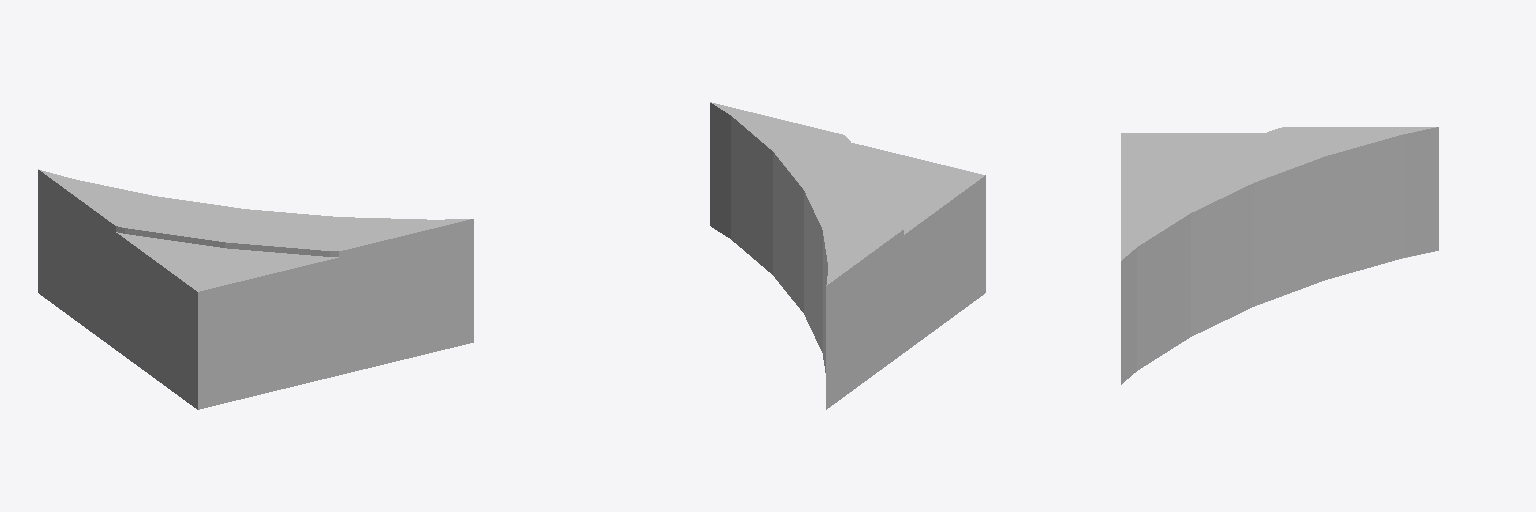
File: roadTile_301.obj
3 renders of one model, left to right at view 1: azimuth 30°, elevation 25°; view 2: azimuth 150°, elevation 25°; view 3: azimuth 270°, elevation 25°, orthographic.
Visible parts, largest first — view 1: Mesh1 Group1 Model; view 2: Mesh1 Group1 Model; view 3: Mesh1 Group1 Model.
Boxes of the visible parts, box(x1,y1,x2,y2) form: Mesh1 Group1 Model: box(38, 169, 473, 409); Mesh1 Group1 Model: box(710, 102, 985, 409); Mesh1 Group1 Model: box(1121, 127, 1438, 384).
Bounding box in the file's own units: 1.47 × 0.63 × 1.47.